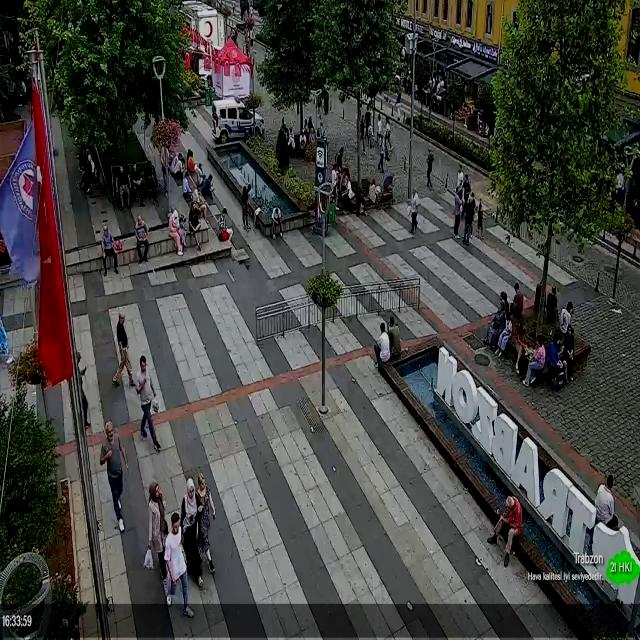Van: (210, 96, 264, 145)
